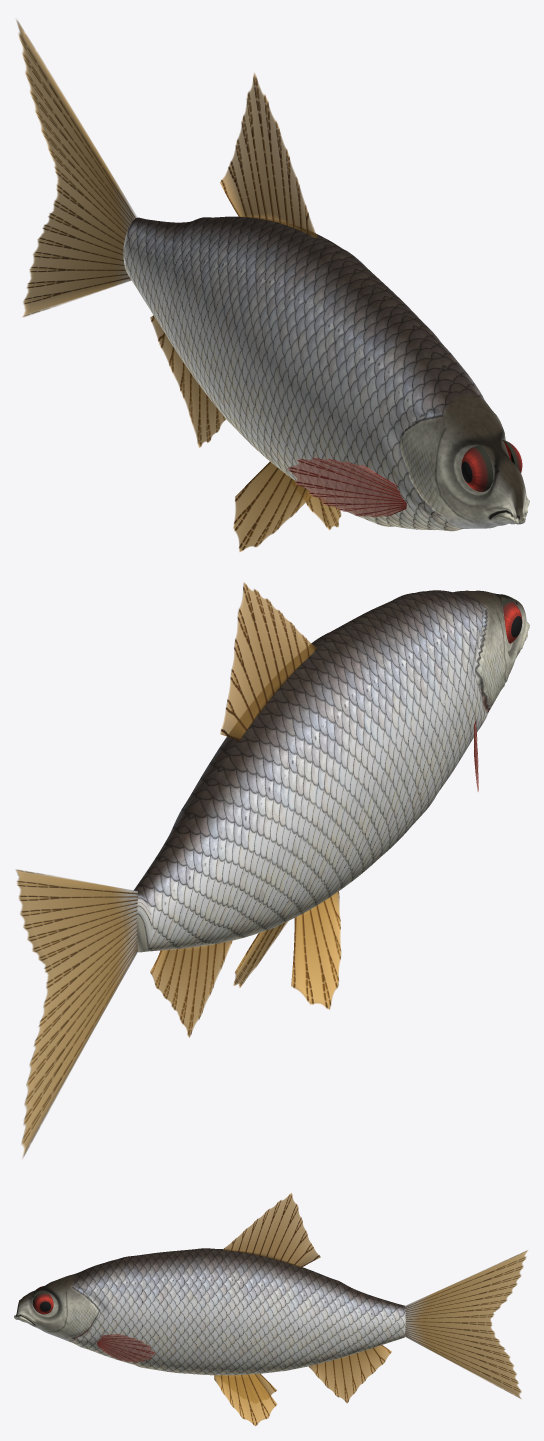
The model's file is ploc.glb.
3 renders of one model, top to bottom at view 1: azimuth 30°, elevation 25°; view 2: azimuth 150°, elevation 25°; view 3: azimuth 270°, elevation 25°, orthographic. The views are drawn at different scales.
Visible parts, largest first — view 1: Body, FinCaudal, FinDorsal1, FinPelvic, FinPectoral, FinAnal, EyeLeft; view 2: Body, FinCaudal, FinDorsal1, FinPelvic, FinAnal; view 3: Body, FinCaudal, FinDorsal1, FinAnal, FinPelvic, FinPectoral, EyeRight.
Boxes of the visible parts, left/top/right/bottom form: Body: left=123, top=216, right=529, bottom=531; FinCaudal: left=16, top=20, right=137, bottom=317; FinDorsal1: left=220, top=73, right=317, bottom=238; FinPelvic: left=233, top=461, right=341, bottom=551; FinPectoral: left=287, top=458, right=406, bottom=516; FinAnal: left=150, top=315, right=225, bottom=447; EyeLeft: left=461, top=445, right=493, bottom=491; Body: left=133, top=590, right=529, bottom=952; FinCaudal: left=16, top=869, right=137, bottom=1157; FinDorsal1: left=220, top=582, right=316, bottom=740; FinPelvic: left=233, top=891, right=341, bottom=1009; FinAnal: left=150, top=940, right=232, bottom=1037; Body: left=14, top=1248, right=405, bottom=1375; FinCaudal: left=405, top=1250, right=527, bottom=1398; FinDorsal1: left=223, top=1193, right=320, bottom=1267; FinAnal: left=308, top=1345, right=391, bottom=1403; FinPelvic: left=214, top=1373, right=277, bottom=1426; FinPectoral: left=97, top=1333, right=155, bottom=1362; EyeRight: left=32, top=1291, right=53, bottom=1314.
Bounding box in the file's own units: 0.219 × 0.481 × 1.
Materials: 8 (7 with a texture image).
